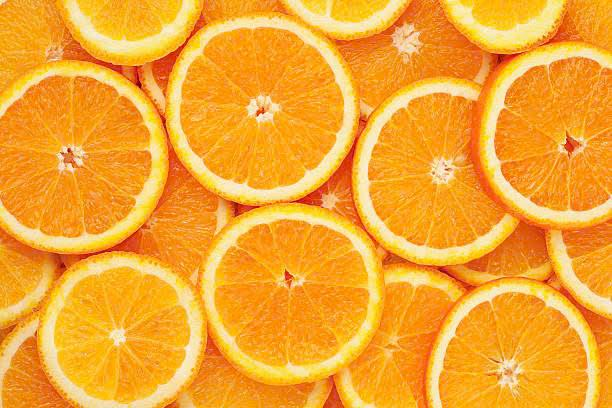orange: (197, 196, 388, 369), (0, 63, 170, 250), (366, 65, 529, 258), (186, 18, 355, 196), (418, 265, 592, 408), (45, 253, 195, 406), (496, 47, 612, 225)
